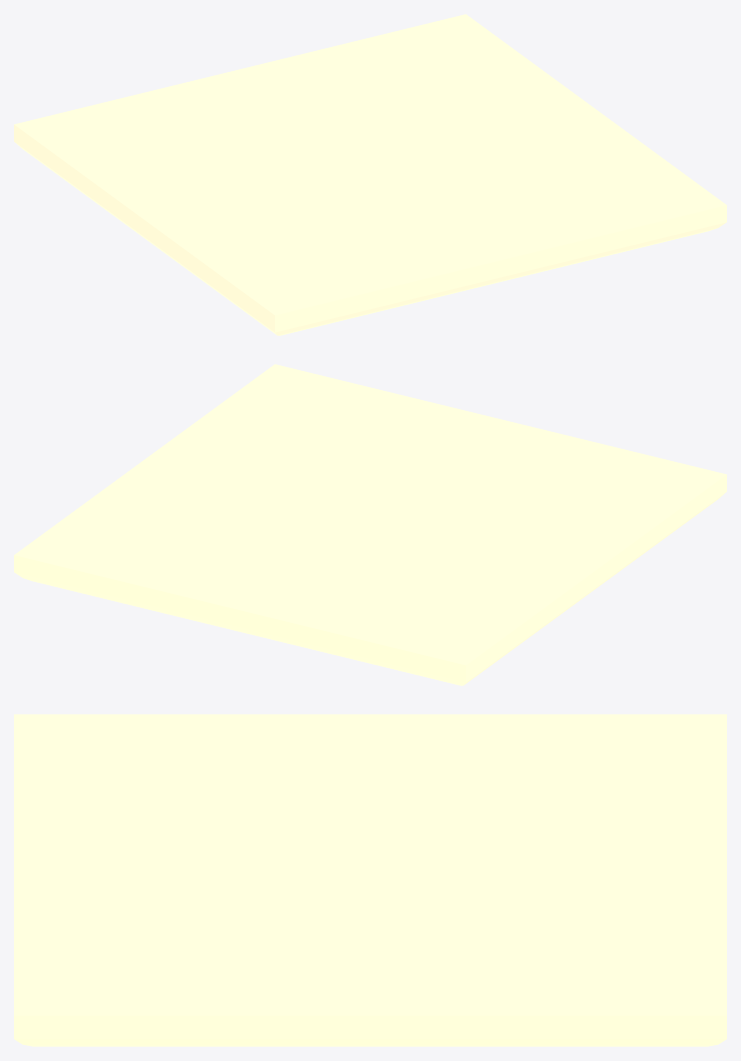
The model's file is Golden_02.gltf.
3 renders of one model, top to bottom at view 1: azimuth 30°, elevation 25°; view 2: azimuth 150°, elevation 25°; view 3: azimuth 270°, elevation 25°, orthographic. The views are drawn at different scales.
Visible parts, largest first — view 1: PF_Golden_2; view 2: PF_Golden_2; view 3: PF_Golden_2.
Boxes of the visible parts, x1,y1,x2,y2 form: PF_Golden_2: (14,14,726,335); PF_Golden_2: (14,364,726,685); PF_Golden_2: (14,714,726,1046).
Size of the model in its own units: 123 by 7.36 by 123.
Materials: 3 (1 with a texture image).
